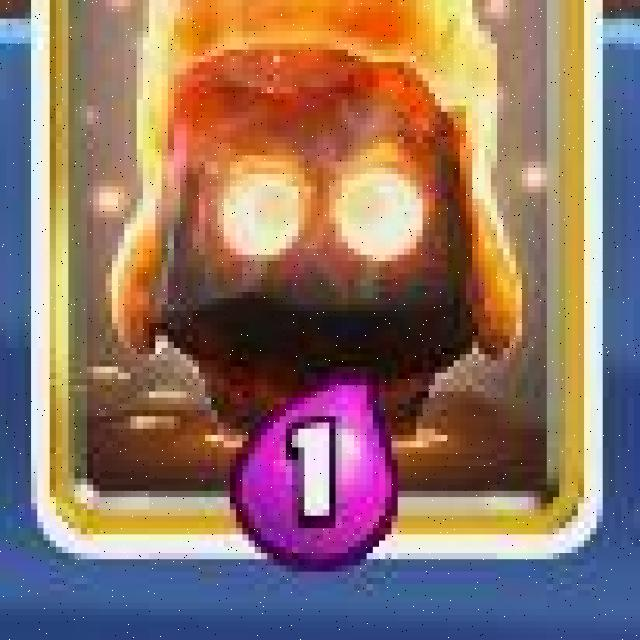Fire_Spirit: (34, 0, 596, 561)
